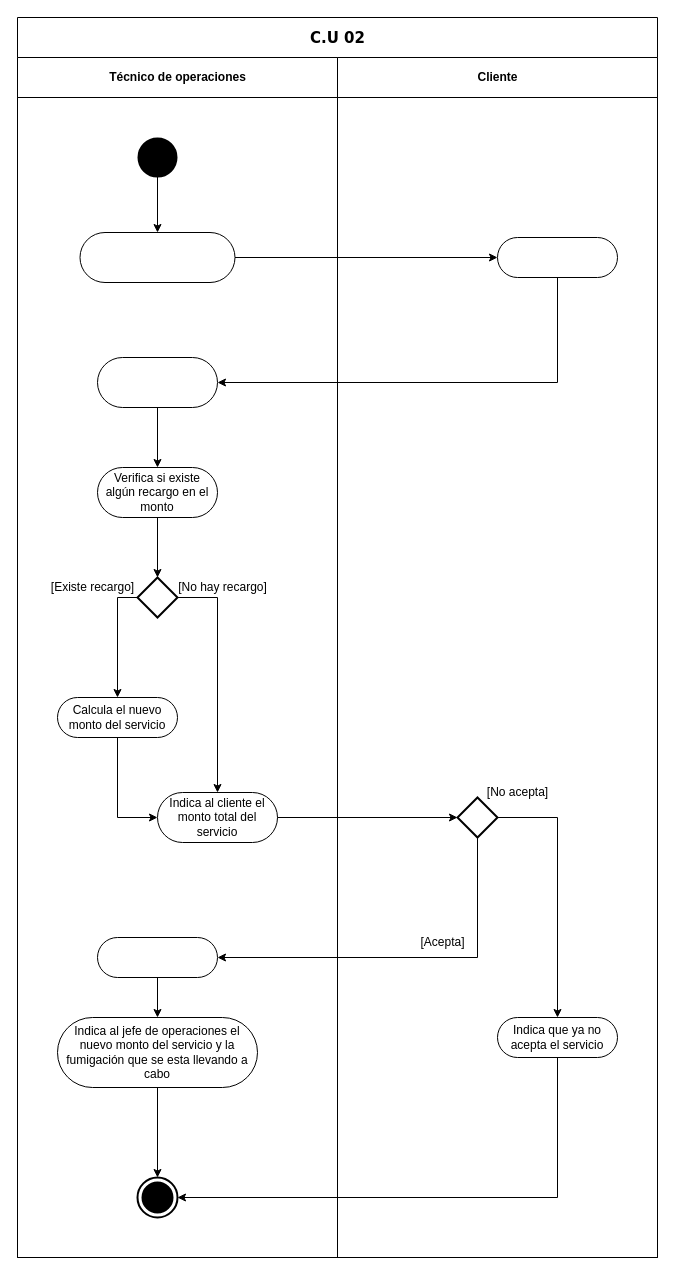
This 675x1275 diagram has some shape labels left out. Each missing label, with the centre of its shape:
"Evalúa las instalaciones del establecimiento" goes at [157,382].
"Muestra las instalaciones" goes at [557,257].
"Procede a realizar la fumigación" goes at [157,957].
"Recibe la información del Jefe de operaciones y se dirige al lugar" goes at [157,257].
